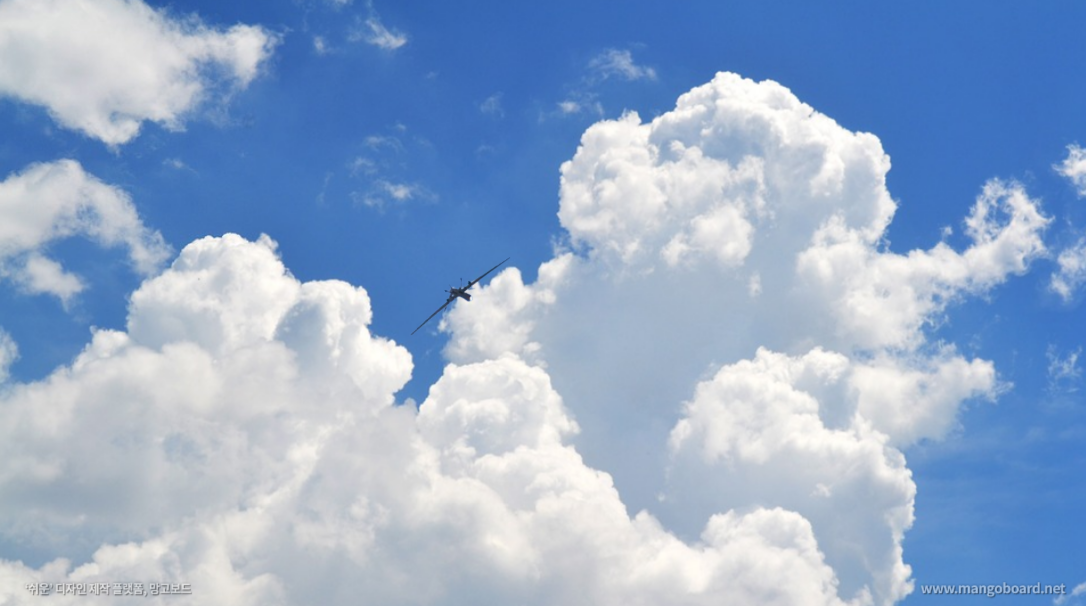military drone: (411, 256, 510, 334)
